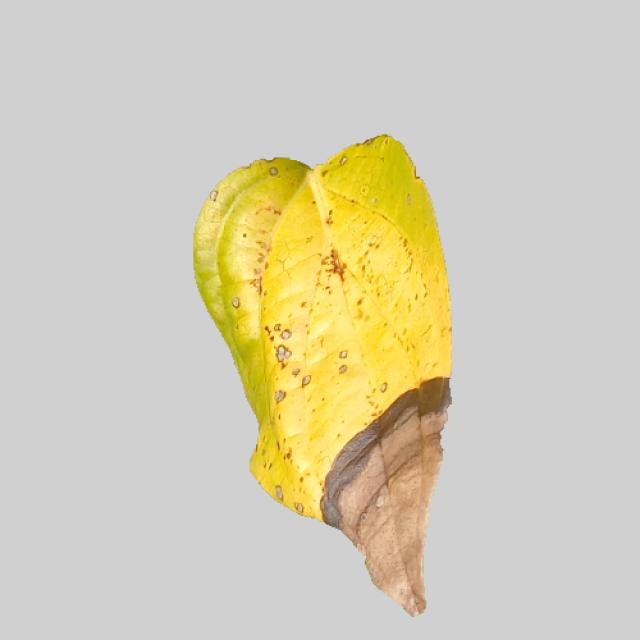leaf-blight: (176, 144, 454, 618)
